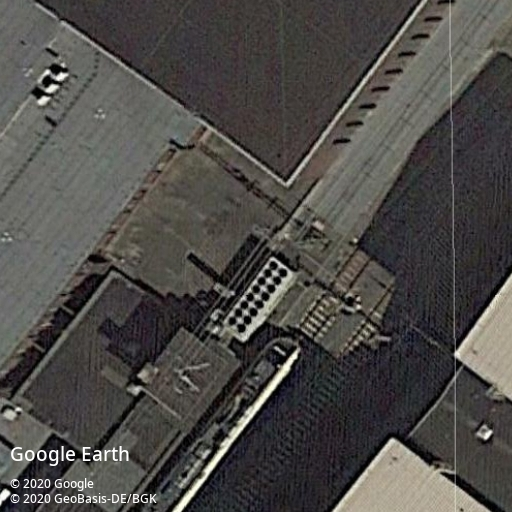Chiller: (222, 256, 296, 342)
